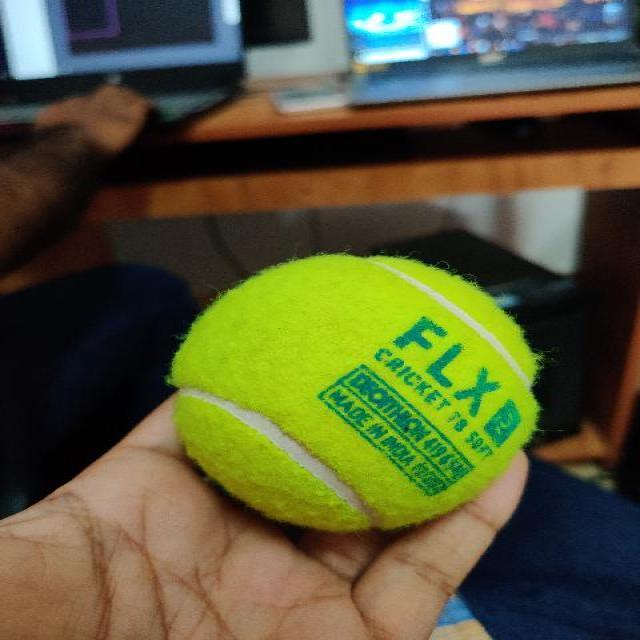tennis-ball: (168, 255, 538, 531)
